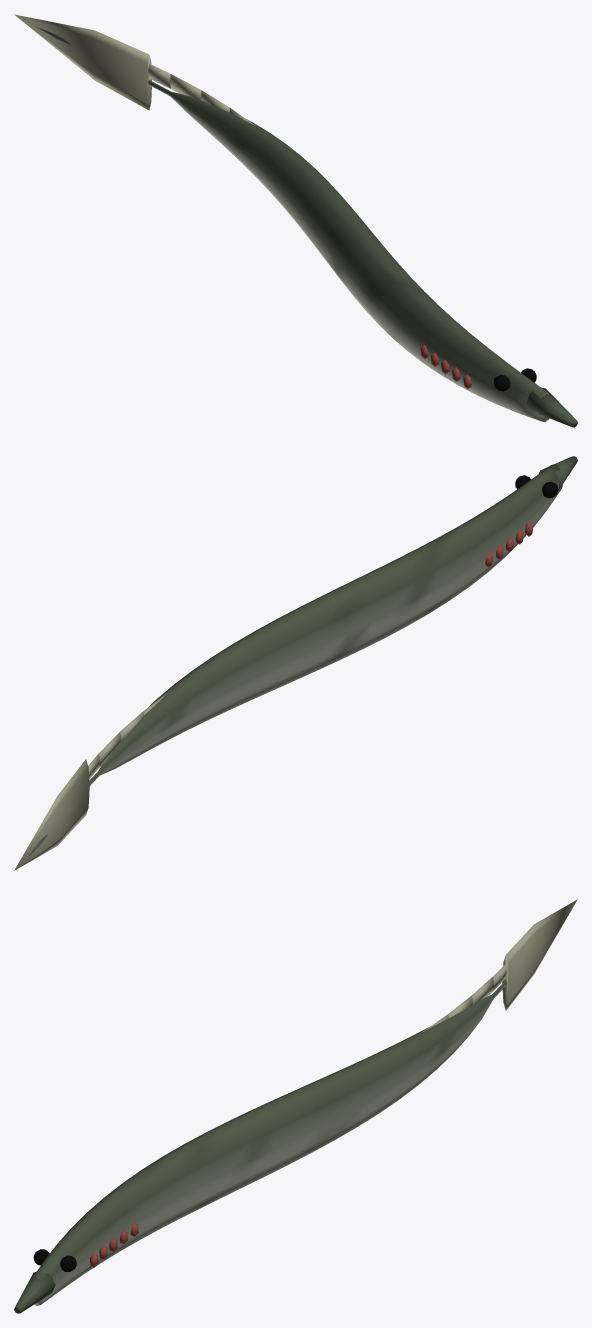
Rendered from Zhongjianichthys.fbx.
The picture shows the model from 3 angles, top to bottom: view 1: azimuth 30°, elevation 25°; view 2: azimuth 150°, elevation 25°; view 3: azimuth 330°, elevation 25°; orthographic projection.
Parts seen in each view (by area): view 1: Zhongjianichthys; view 2: Zhongjianichthys; view 3: Zhongjianichthys.
Part boxes in pixels (x1,y1,x2,y2): Zhongjianichthys: (14, 14, 577, 427); Zhongjianichthys: (14, 456, 577, 870); Zhongjianichthys: (14, 899, 577, 1313).
Size of the model in its own units: 0.151 by 0.11 by 1.62.
